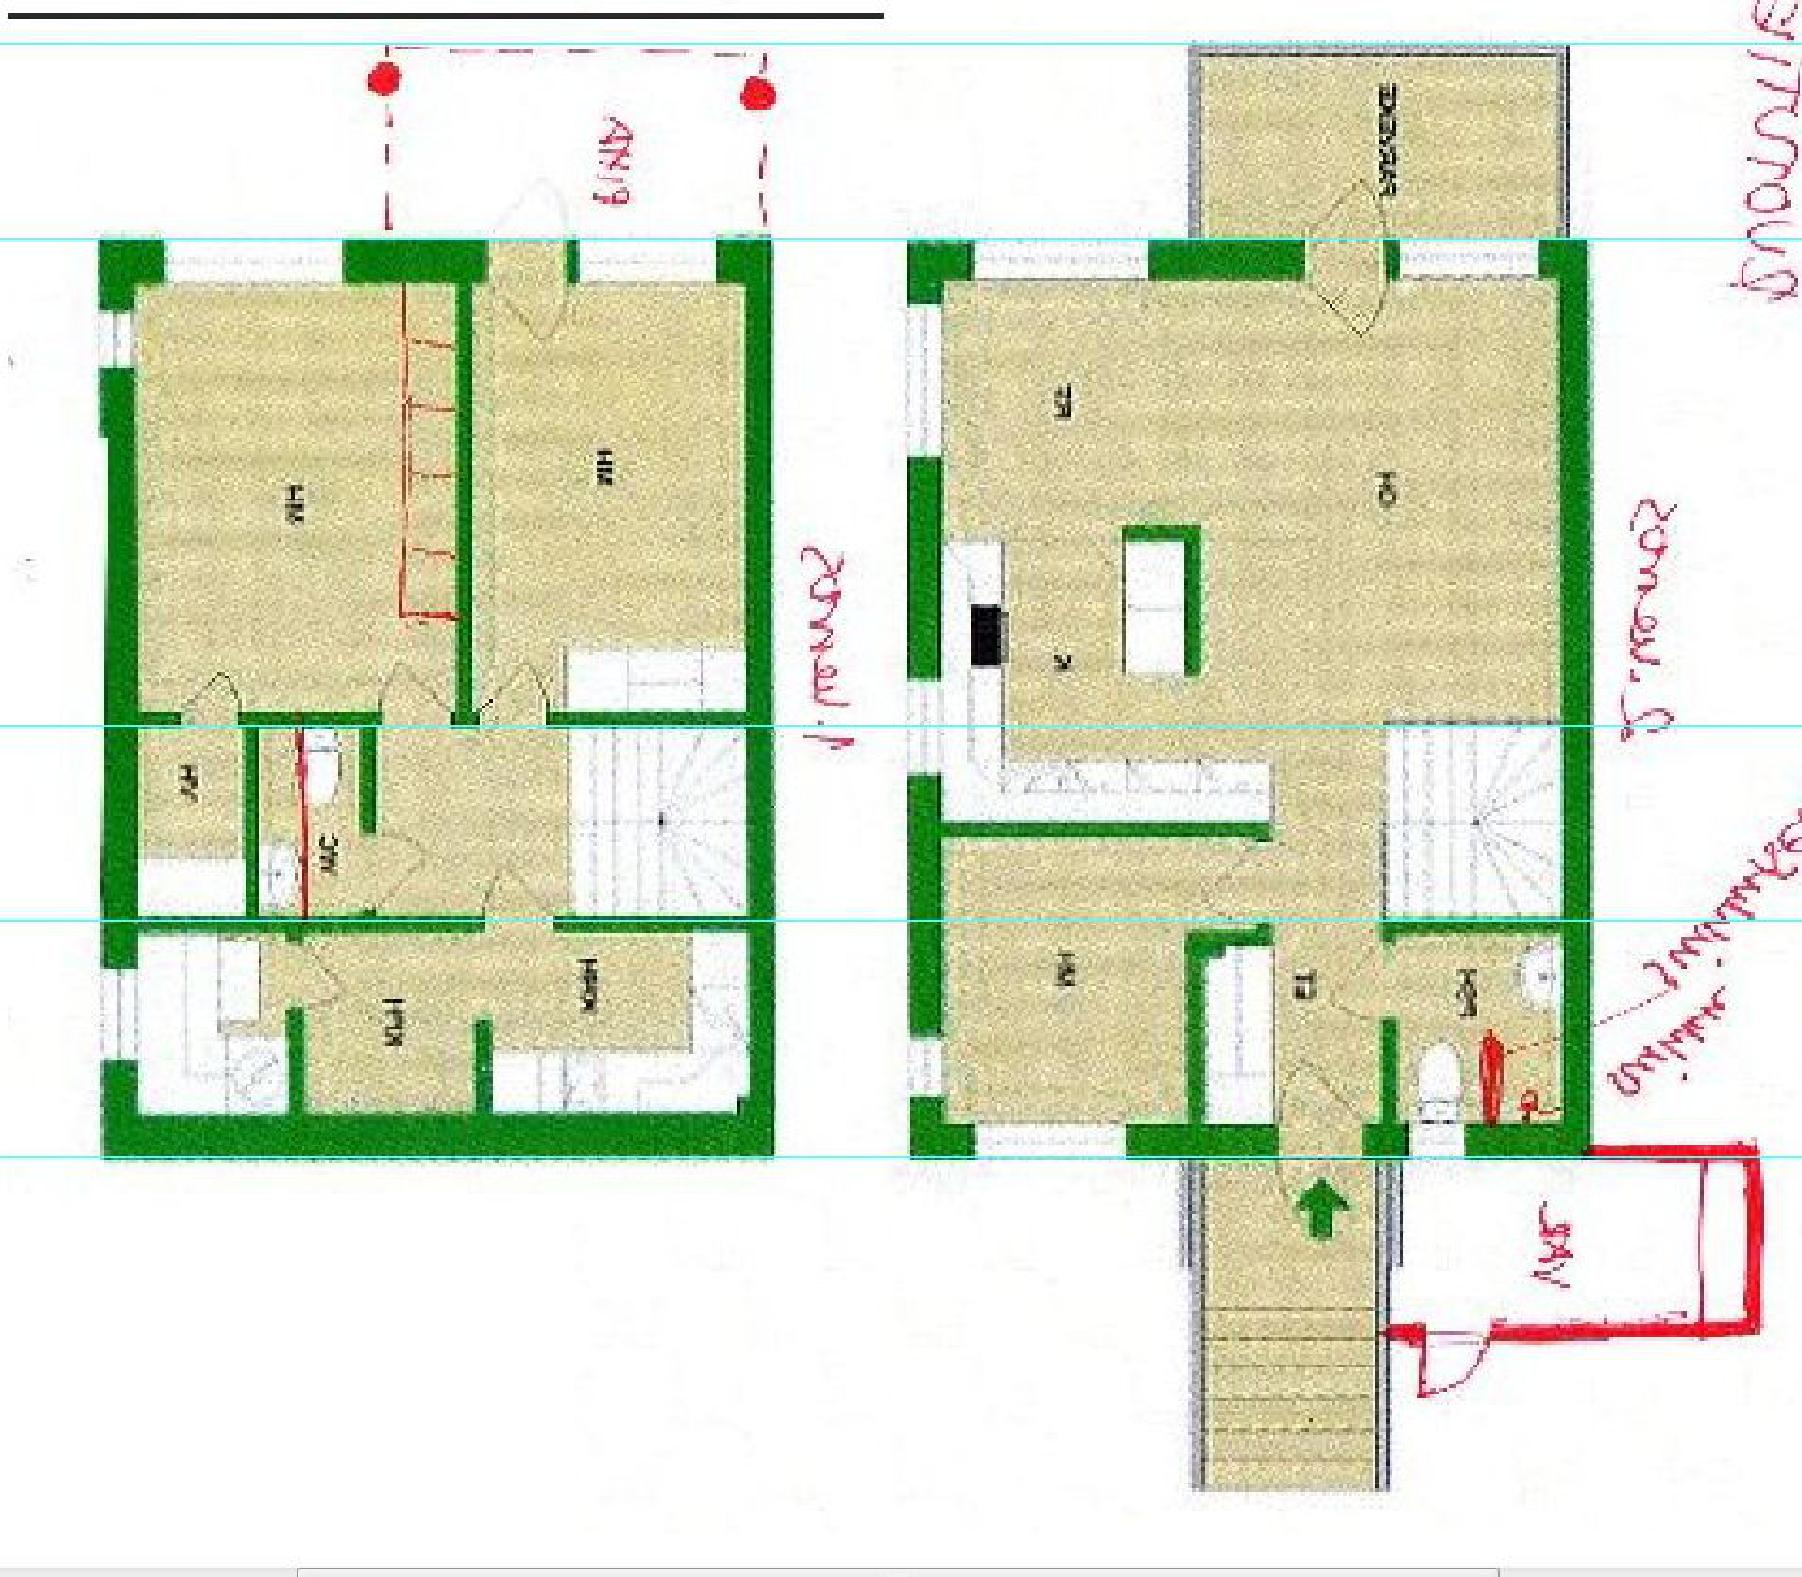door: (1413, 1315, 1502, 1405), (1329, 935, 1407, 1025), (1272, 1064, 1373, 1133), (362, 821, 435, 913), (1309, 271, 1401, 340), (473, 667, 562, 733), (1298, 178, 1394, 236), (486, 863, 559, 938), (372, 668, 452, 733), (490, 280, 575, 339), (182, 671, 253, 729), (302, 946, 352, 1008)
window: (971, 236, 1148, 288), (162, 238, 345, 285), (899, 305, 950, 457), (968, 1120, 1123, 1162), (581, 241, 716, 280), (1402, 241, 1529, 280), (906, 674, 936, 772), (909, 1031, 949, 1103), (97, 305, 135, 372), (107, 976, 139, 1053)
zone: (945, 288, 1561, 1125), (132, 285, 454, 717), (477, 297, 742, 728), (257, 720, 763, 918), (297, 933, 758, 1111), (1198, 51, 1555, 238), (1191, 1156, 1390, 1477), (1401, 1162, 1738, 1315), (1397, 939, 1568, 1129), (136, 933, 300, 1108), (138, 725, 242, 918)
